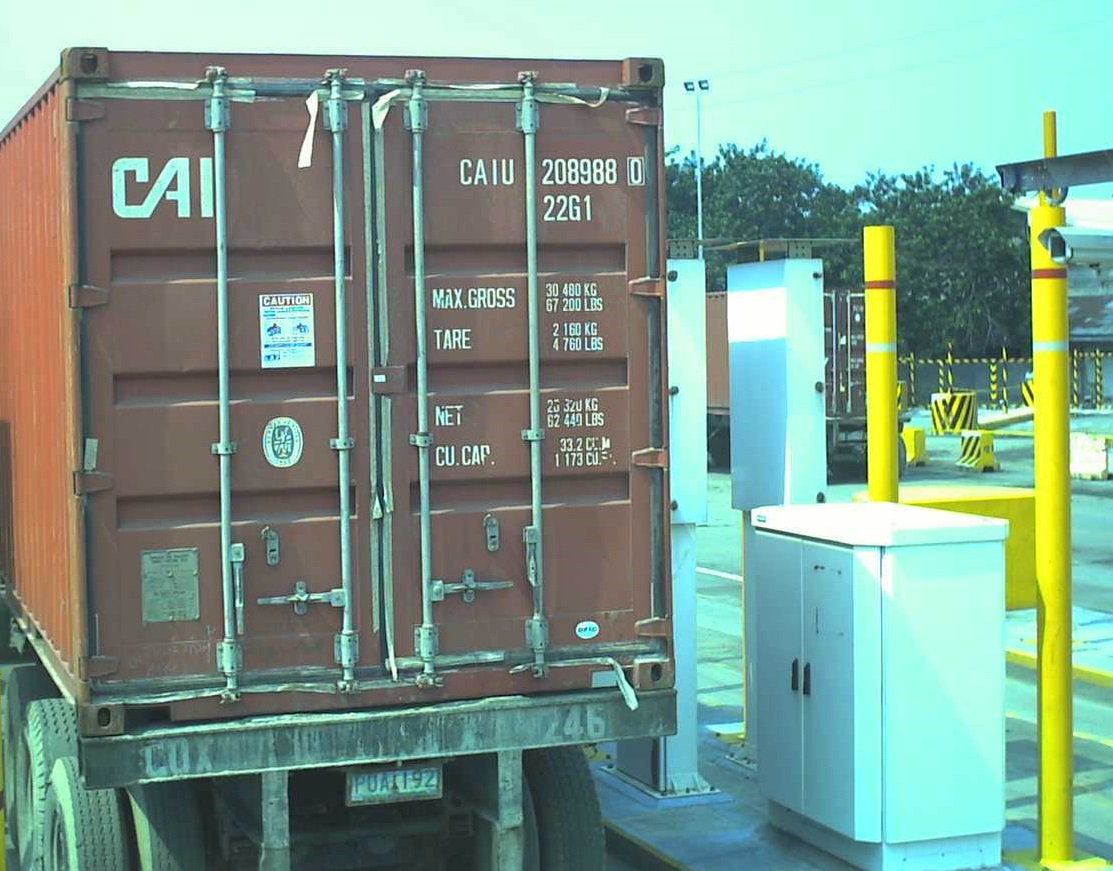container_door: (60, 44, 679, 746)
